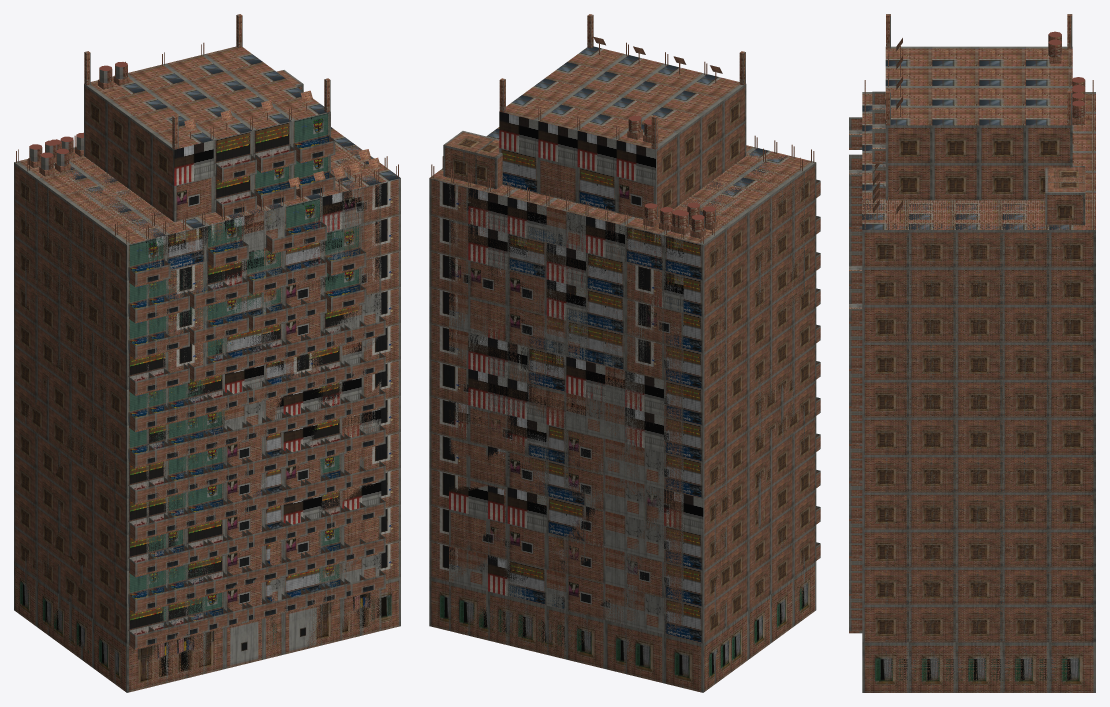
3 renders of one model, left to right at view 1: azimuth 30°, elevation 25°; view 2: azimuth 150°, elevation 25°; view 3: azimuth 270°, elevation 25°, orthographic. The views are drawn at different scales.
Parts seen in each view (by area): view 1: Brick_7x5_f11_v1, Brick_4x4_f13_v1, Brick_7x4_f11_v1, Brick_4x5_f7_v0, Brick_6x5_f10_v1, Brick_5x5_f10_v0, Brick_5x5_f6_v0, Brick_6x5_f11_v0, Brick_6x5_f8_v0, Brick_2x5_f8_v0, Brick_5x5_f7_v1, Brick_4x5_f5_v1; view 2: Brick_7x5_f11_v1, Brick_5x5_f6_v0, Brick_4x5_f7_v0, Brick_4x4_f13_v1, Brick_6x5_f10_v1, Brick_5x5_f10_v0, Brick_7x4_f11_v1, Brick_6x5_f11_v0, Brick_5x5_f7_v1; view 3: Brick_7x5_f11_v1, Brick_7x4_f11_v1, Brick_4x4_f13_v1, Brick_6x5_f11_v0, Brick_6x5_f8_v0, Brick_5x5_f10_v0.
Boxes of the visible parts, x1,y1,x2,y2 form: Brick_7x5_f11_v1: [14, 70, 400, 692]; Brick_4x4_f13_v1: [84, 14, 335, 222]; Brick_7x4_f11_v1: [25, 145, 387, 684]; Brick_4x5_f7_v0: [185, 345, 346, 678]; Brick_6x5_f10_v1: [146, 219, 381, 686]; Brick_5x5_f10_v0: [166, 224, 366, 621]; Brick_5x5_f6_v0: [166, 377, 361, 682]; Brick_6x5_f11_v0: [50, 135, 381, 323]; Brick_6x5_f8_v0: [266, 316, 385, 597]; Brick_2x5_f8_v0: [227, 344, 268, 625]; Brick_5x5_f7_v1: [166, 341, 361, 422]; Brick_4x5_f5_v1: [266, 444, 307, 612]; Brick_7x5_f11_v1: [429, 127, 820, 692]; Brick_5x5_f6_v0: [468, 369, 663, 683]; Brick_4x5_f7_v0: [488, 337, 644, 673]; Brick_4x4_f13_v1: [499, 14, 746, 219]; Brick_6x5_f10_v1: [449, 219, 683, 687]; Brick_5x5_f10_v0: [468, 224, 663, 380]; Brick_7x4_f11_v1: [442, 148, 804, 684]; Brick_6x5_f11_v0: [449, 135, 794, 272]; Brick_5x5_f7_v1: [468, 333, 663, 416]; Brick_7x5_f11_v1: [849, 77, 1095, 692]; Brick_7x4_f11_v1: [885, 182, 1072, 692]; Brick_4x4_f13_v1: [872, 14, 1072, 200]; Brick_6x5_f11_v0: [849, 87, 1095, 288]; Brick_6x5_f8_v0: [849, 338, 862, 633]; Brick_5x5_f10_v0: [849, 231, 862, 618].
Bounding box in the file's own units: 24.5 × 47.2 × 18.5.
1 material, 1 textured.
